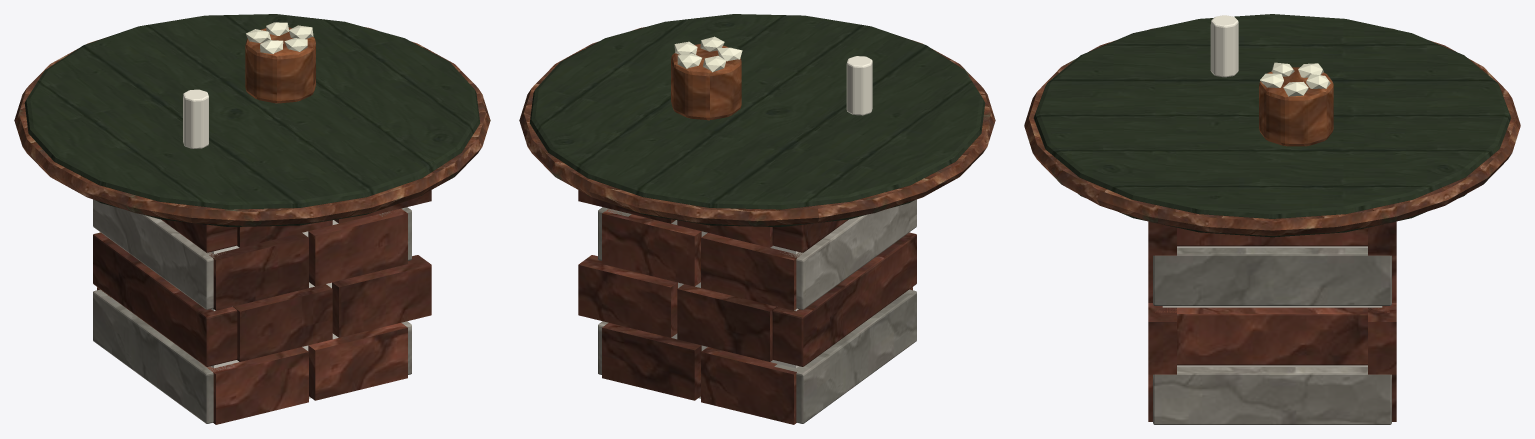
The model's file is hearth_table.glb.
The picture shows the model from 3 angles, left to right: view 1: azimuth 30°, elevation 25°; view 2: azimuth 150°, elevation 25°; view 3: azimuth 270°, elevation 25°; orthographic projection. The views are drawn at different scales.
Visible parts, largest first — view 1: model; view 2: model; view 3: model.
Boxes of the visible parts, x1=… form: model: x1=14, y1=14, x2=490, y2=424; model: x1=519, y1=14, x2=995, y2=424; model: x1=1024, y1=14, x2=1520, y2=424.
Bounding box in the file's own units: 1.04 × 0.7496 × 1.04.
Materials: 11 (8 with a texture image).
